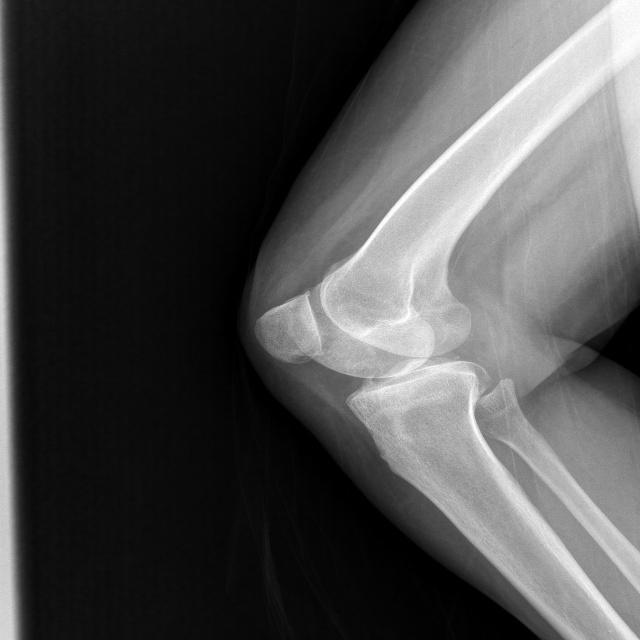Knee: (248, 282, 491, 420)
